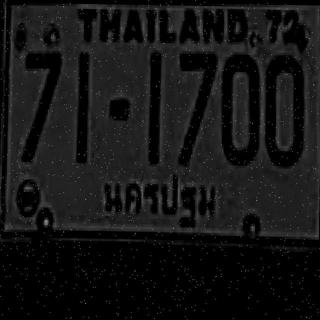N00: (263, 52, 303, 164), (221, 51, 259, 163)
N01: (74, 50, 88, 161), (147, 51, 160, 162)
N07: (22, 50, 60, 160), (177, 50, 214, 162)
P28: (95, 171, 221, 230)
